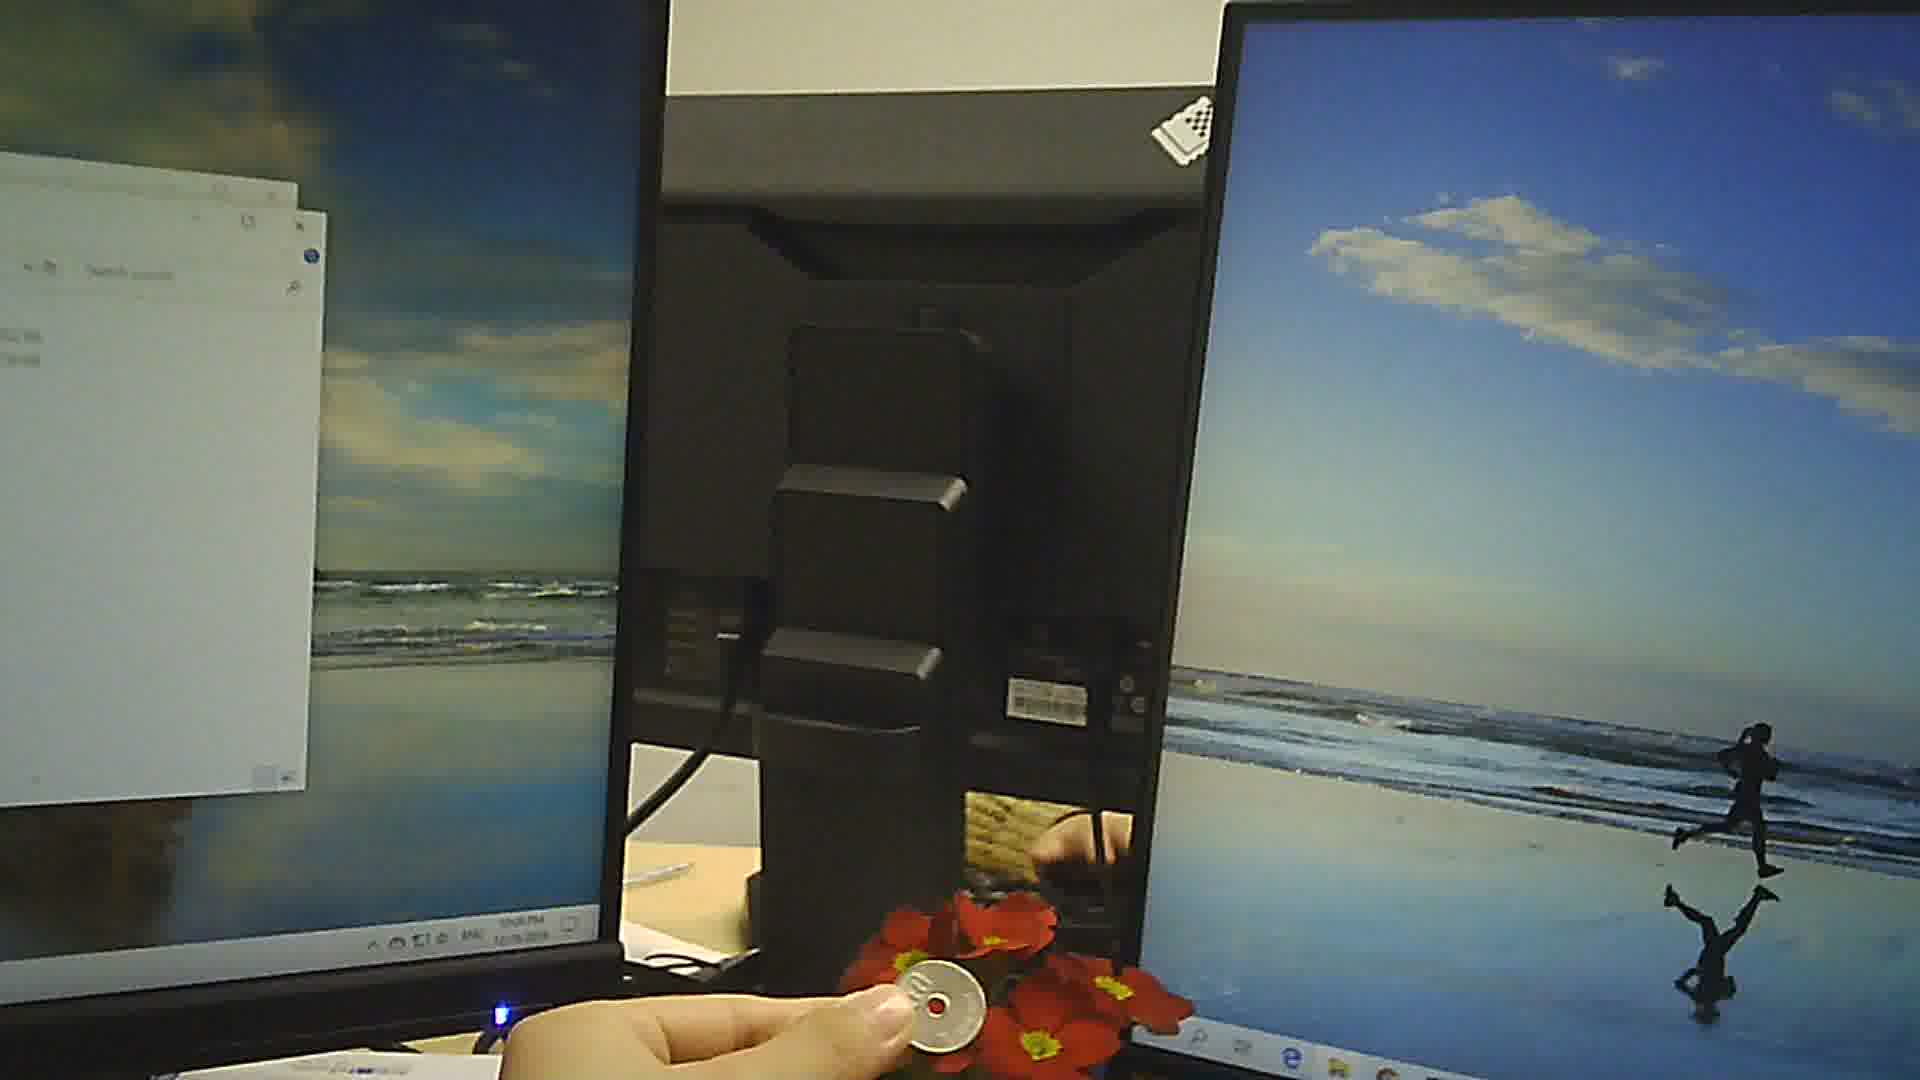50 Yen: (895, 956, 992, 1054)
